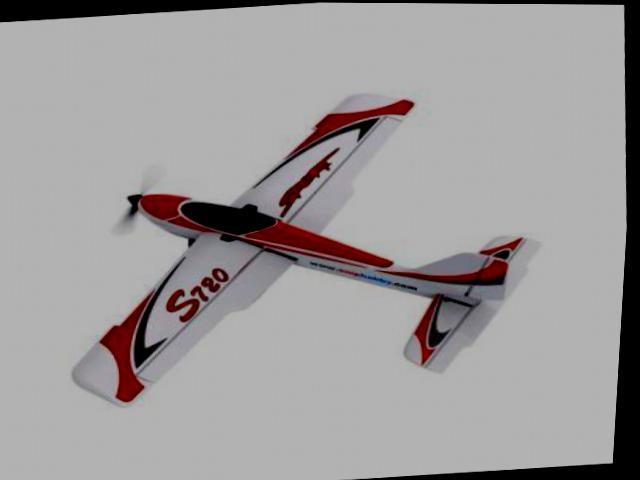uav: (50, 75, 563, 417)
